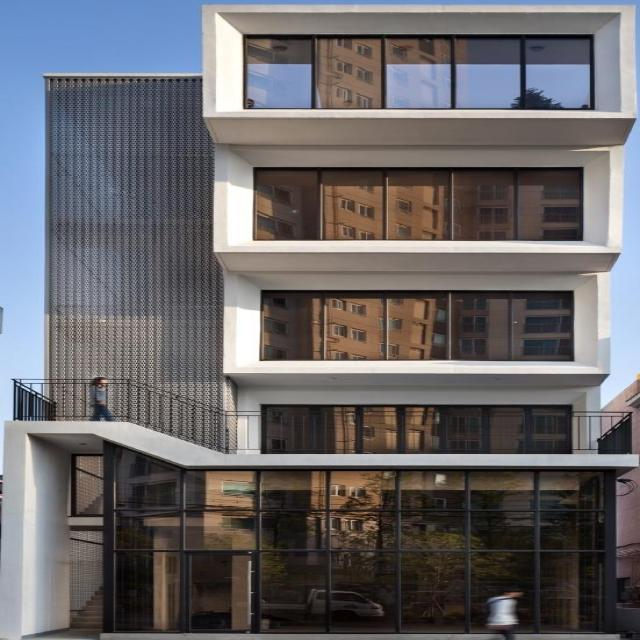door: (183, 550, 257, 632)
railing: (9, 379, 262, 454), (567, 413, 629, 455)
window: (100, 438, 607, 634), (241, 38, 589, 112), (251, 171, 581, 242), (264, 293, 570, 363), (262, 406, 565, 455)
